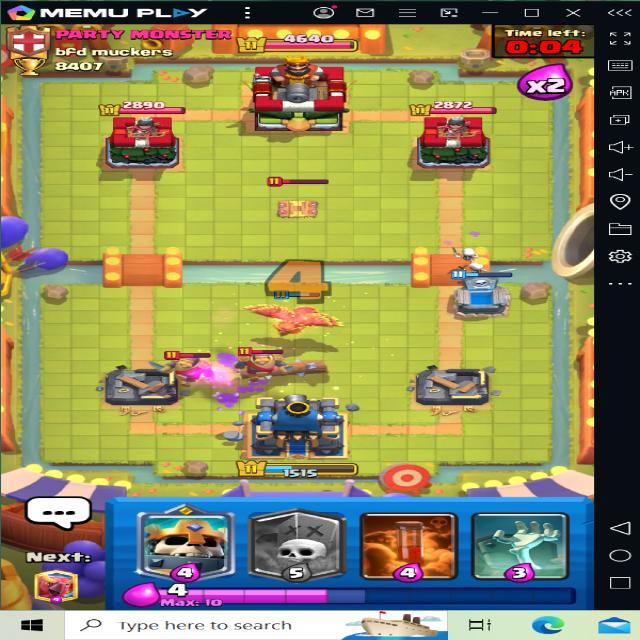knight: (157, 342, 232, 399), (234, 346, 285, 383)
tesla-closed: (260, 169, 336, 230)
